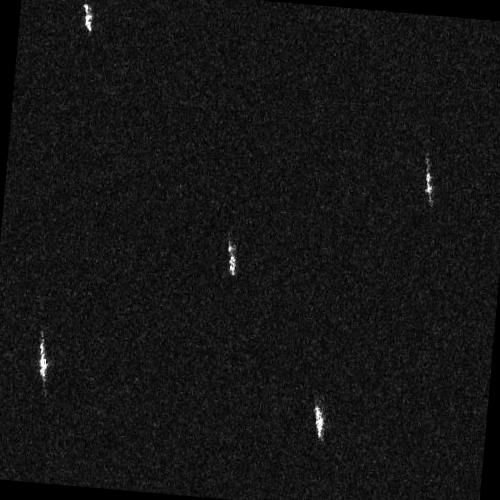ship: (38, 338, 48, 382), (313, 405, 325, 439), (82, 3, 93, 32), (227, 244, 236, 277), (424, 166, 432, 197)
